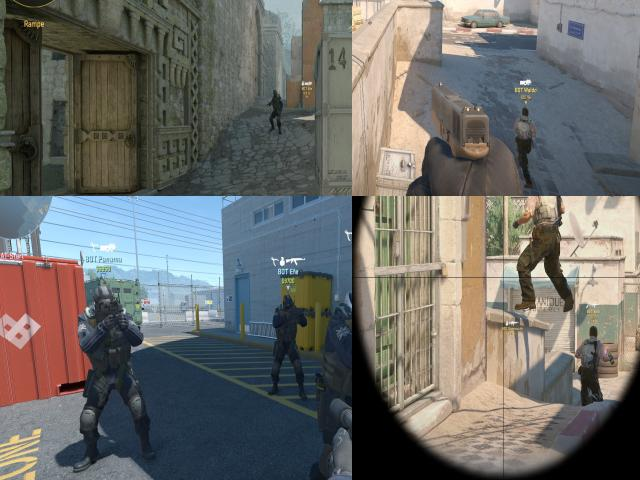CT: (85, 284, 135, 454), (328, 278, 352, 480), (276, 295, 300, 395), (270, 87, 282, 136)
CT-Head: (95, 286, 114, 316), (282, 296, 293, 310), (272, 88, 280, 102)
T: (521, 196, 562, 302), (579, 324, 604, 400), (516, 106, 533, 180)
T-Head: (586, 323, 601, 344), (520, 106, 532, 120)
